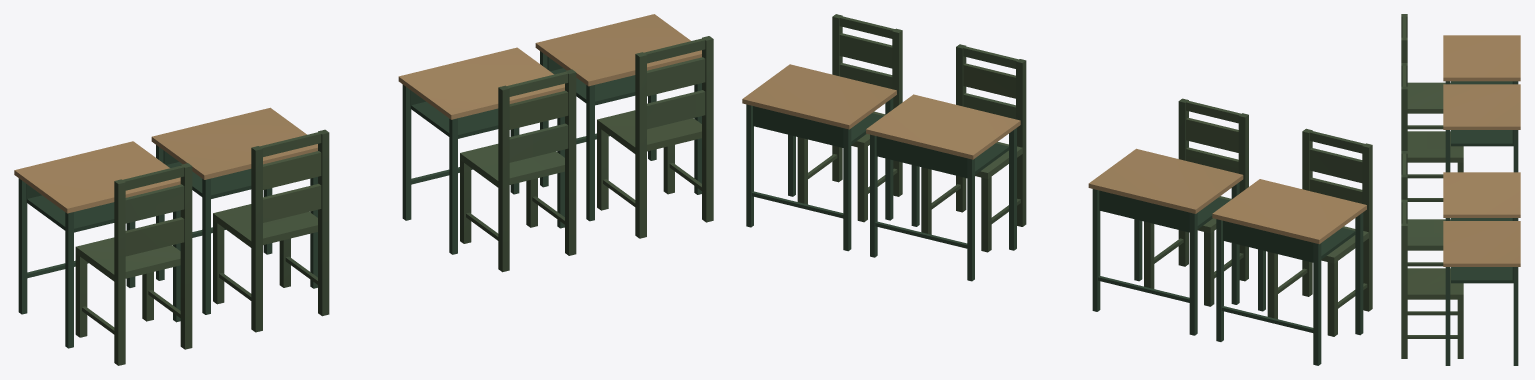
The model's file is table.school_desks.green.glb.
3 views of the same model, side by side, from view 1: azimuth 30°, elevation 25°; view 2: azimuth 150°, elevation 25°; view 3: azimuth 270°, elevation 25° (orthographic). The views are drawn at different scales.
Visible parts, largest first — view 1: table_school_desks_green; view 2: table_school_desks_green; view 3: table_school_desks_green.
Boxes of the visible parts, bbox=[...] form: table_school_desks_green: bbox=[14, 14, 713, 365]; table_school_desks_green: bbox=[742, 14, 1372, 365]; table_school_desks_green: bbox=[1401, 14, 1520, 365].
Size of what is drawn, in the model's own units: 3.5 by 0.95 by 0.772.
